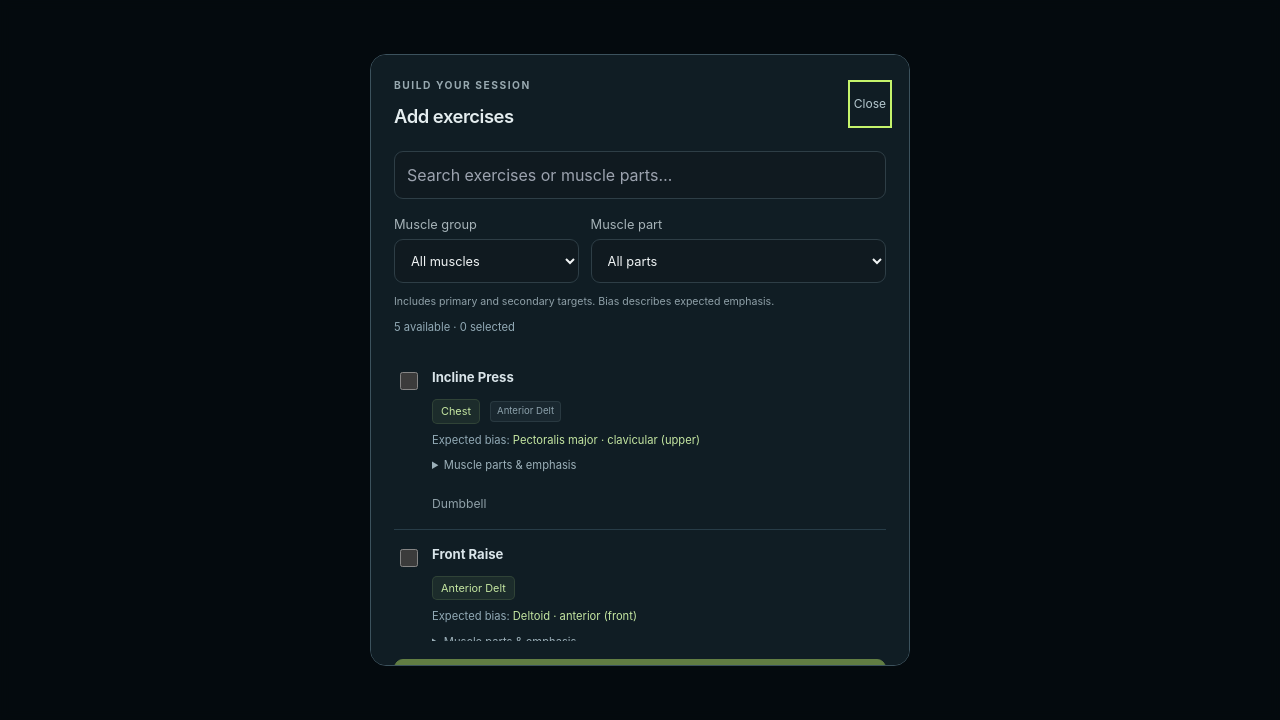
Test: exercise muscle filtering › filters specific parts in both primary and secondary roles and resets the part when changing group
Select "anterior delt" in the dropdown labelled "Muscle group" at [486, 261], box [394,239,579,283]
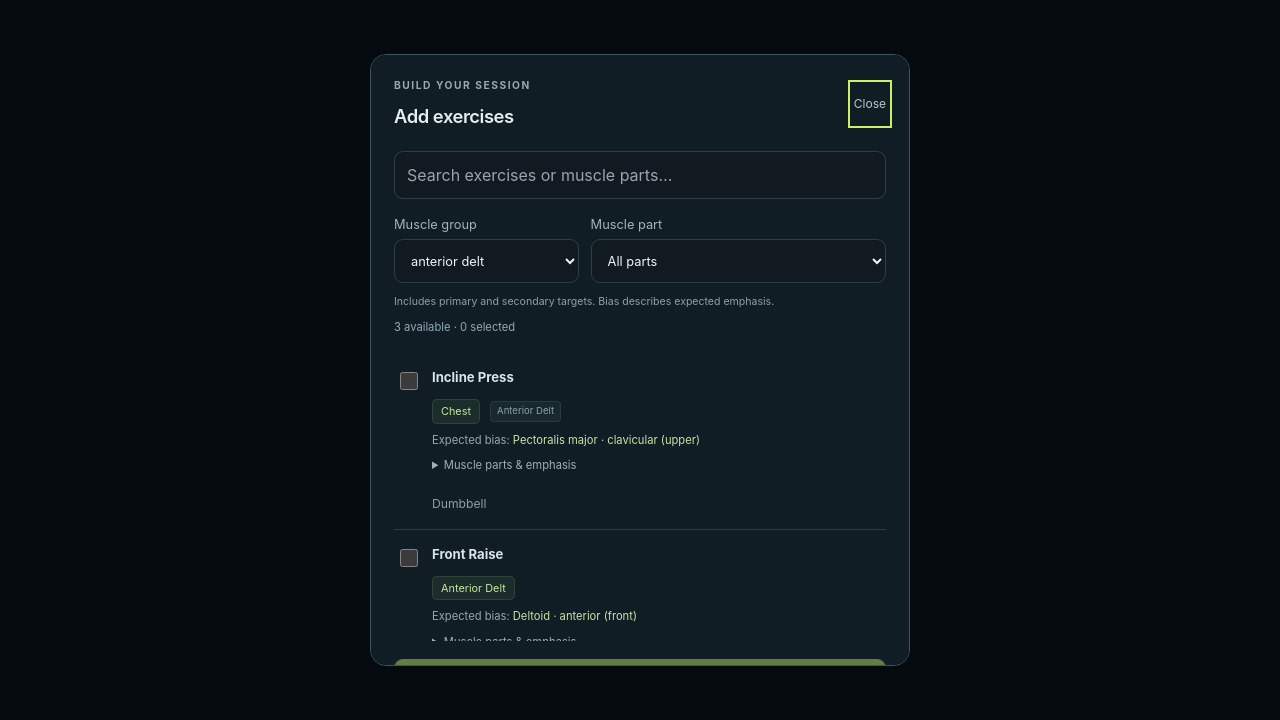
Select "Deltoid · anterior (front)" in the dropdown labelled "Muscle part" at [738, 261], box [591,239,886,283]
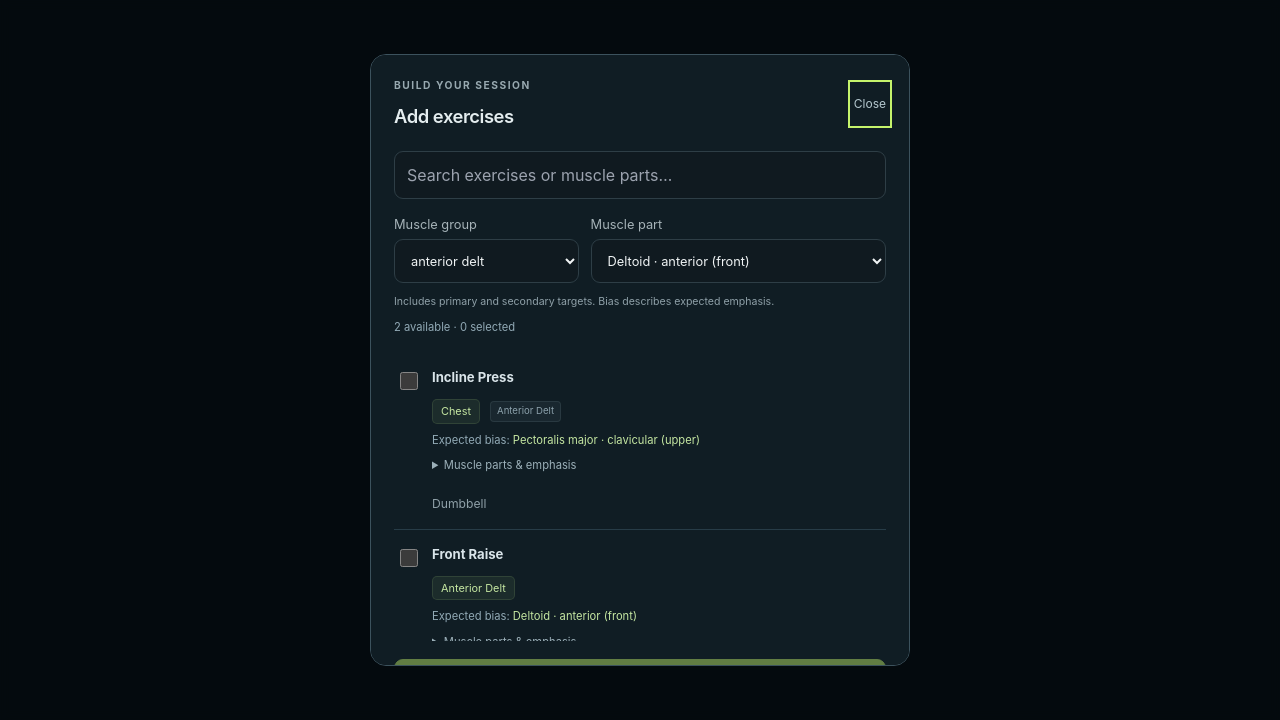
Expected: the number of checkboxes is 2, [400,372,418,390]; [400,549,418,567]
Expected: the checkbox labelled "Incline Press" is shown, [400,372,418,390]
Select "chest" in the dropdown labelled "Muscle group" at [486, 261], box [394,239,579,283]
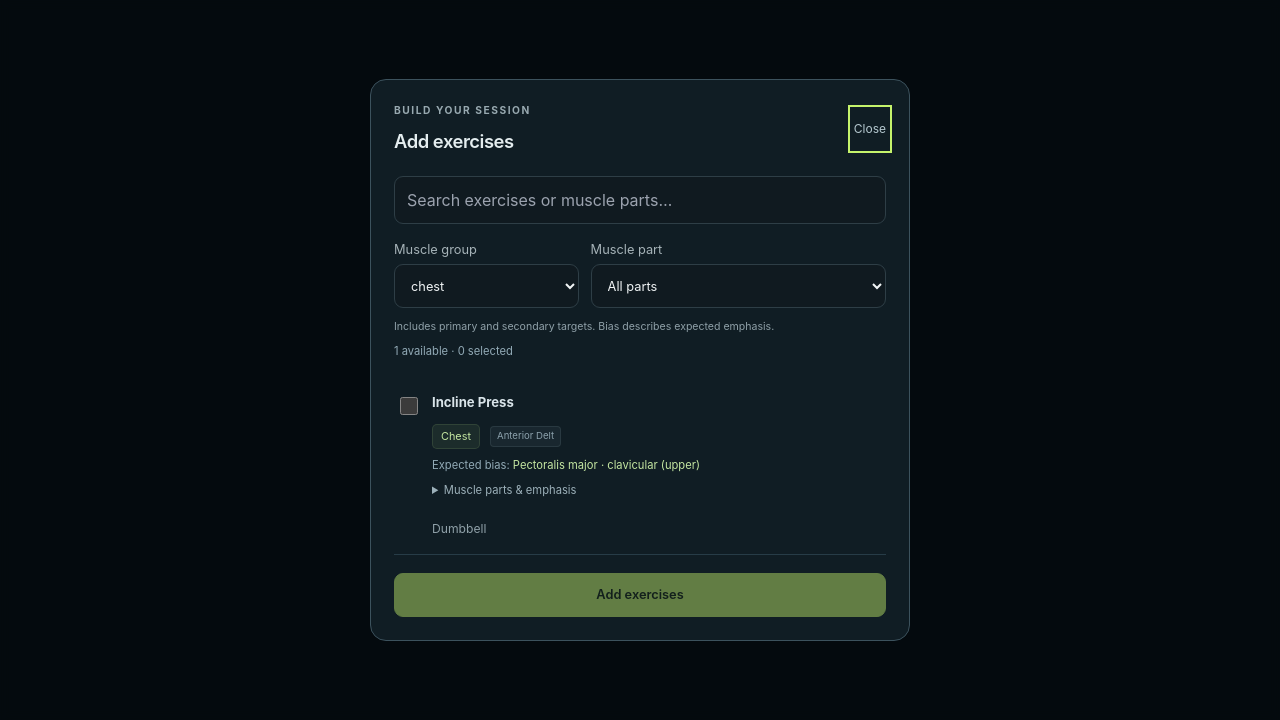
Expected: the number of checkboxes is 1, [400,397,418,415]
Expected: the option "Deltoid" is gone
